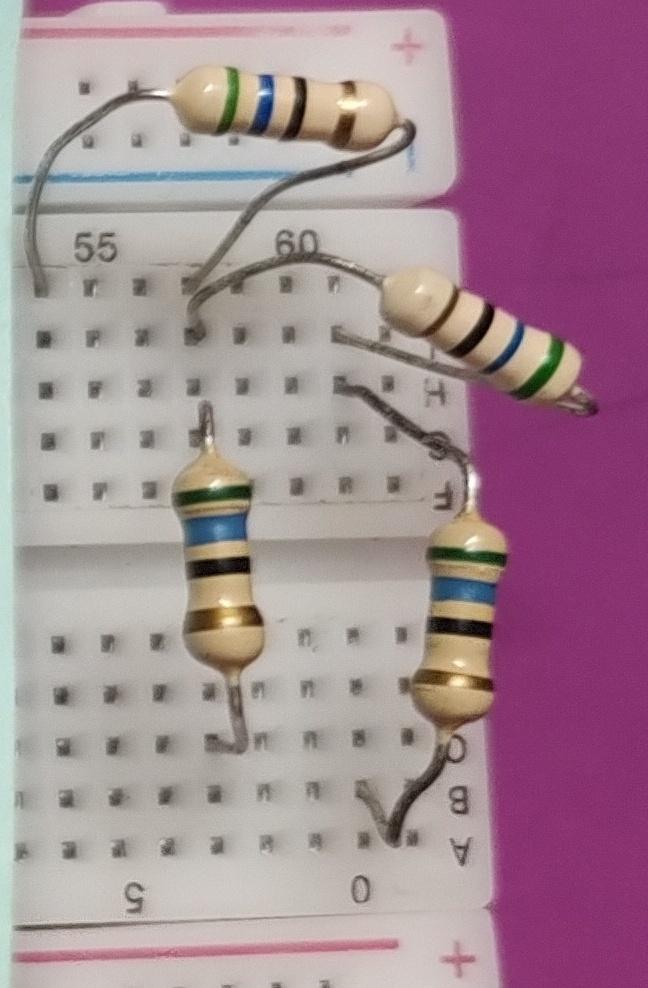resistor: (157, 447, 296, 693), (161, 37, 404, 170), (375, 253, 589, 403), (411, 495, 502, 747)
